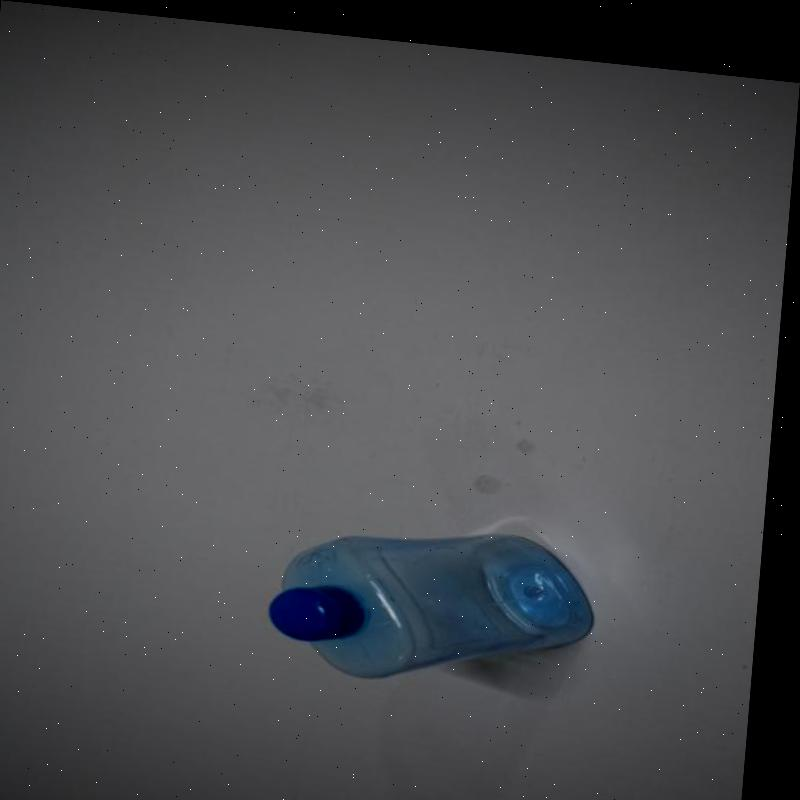botella: (272, 501, 607, 687)
